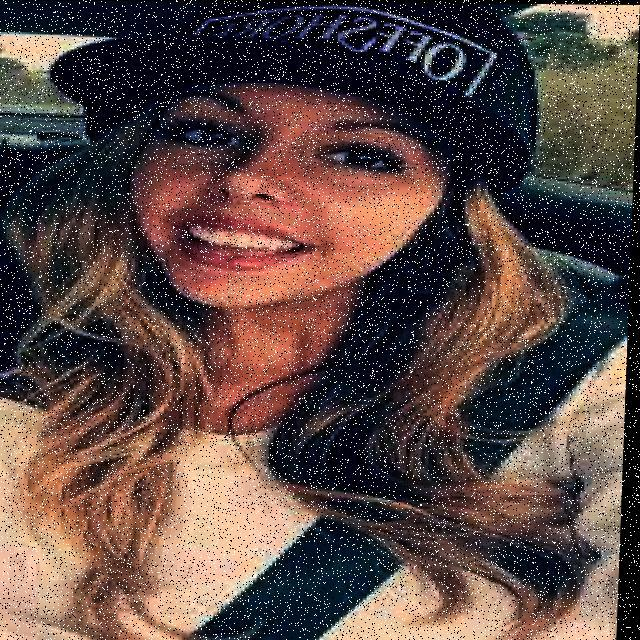seatbelt: (22, 237, 632, 640)
